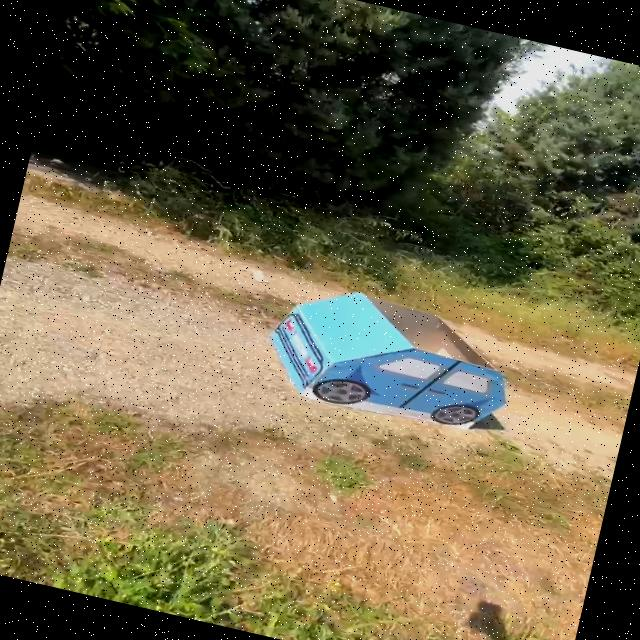blue_car: (221, 256, 539, 454)
